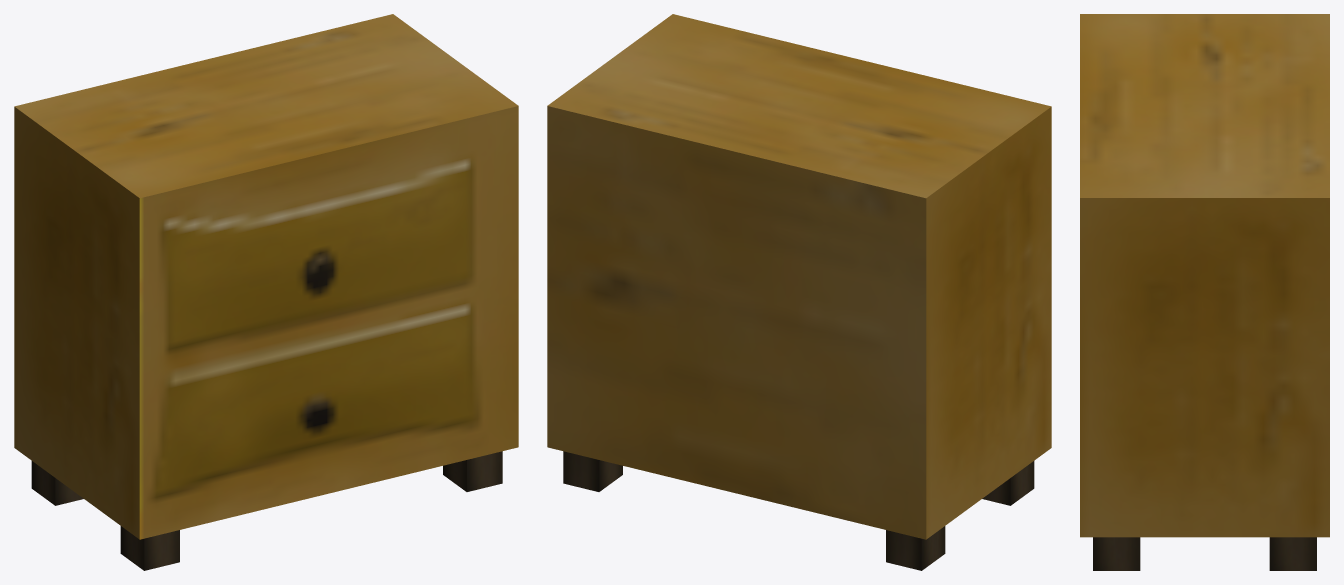
File: End_Table.fbx
3 views of the same model, side by side, from view 1: azimuth 30°, elevation 25°; view 2: azimuth 150°, elevation 25°; view 3: azimuth 270°, elevation 25° (orthographic).
Parts seen in each view (by area): view 1: End_Table_1; view 2: End_Table_1; view 3: End_Table_1.
Boxes of the visible parts, x1,y1,x2,y2 form: End_Table_1: (14,14,518,570); End_Table_1: (547,14,1051,570); End_Table_1: (1080,14,1329,570).
Size of the model in its own units: 85.76 by 82.19 by 49.22.
